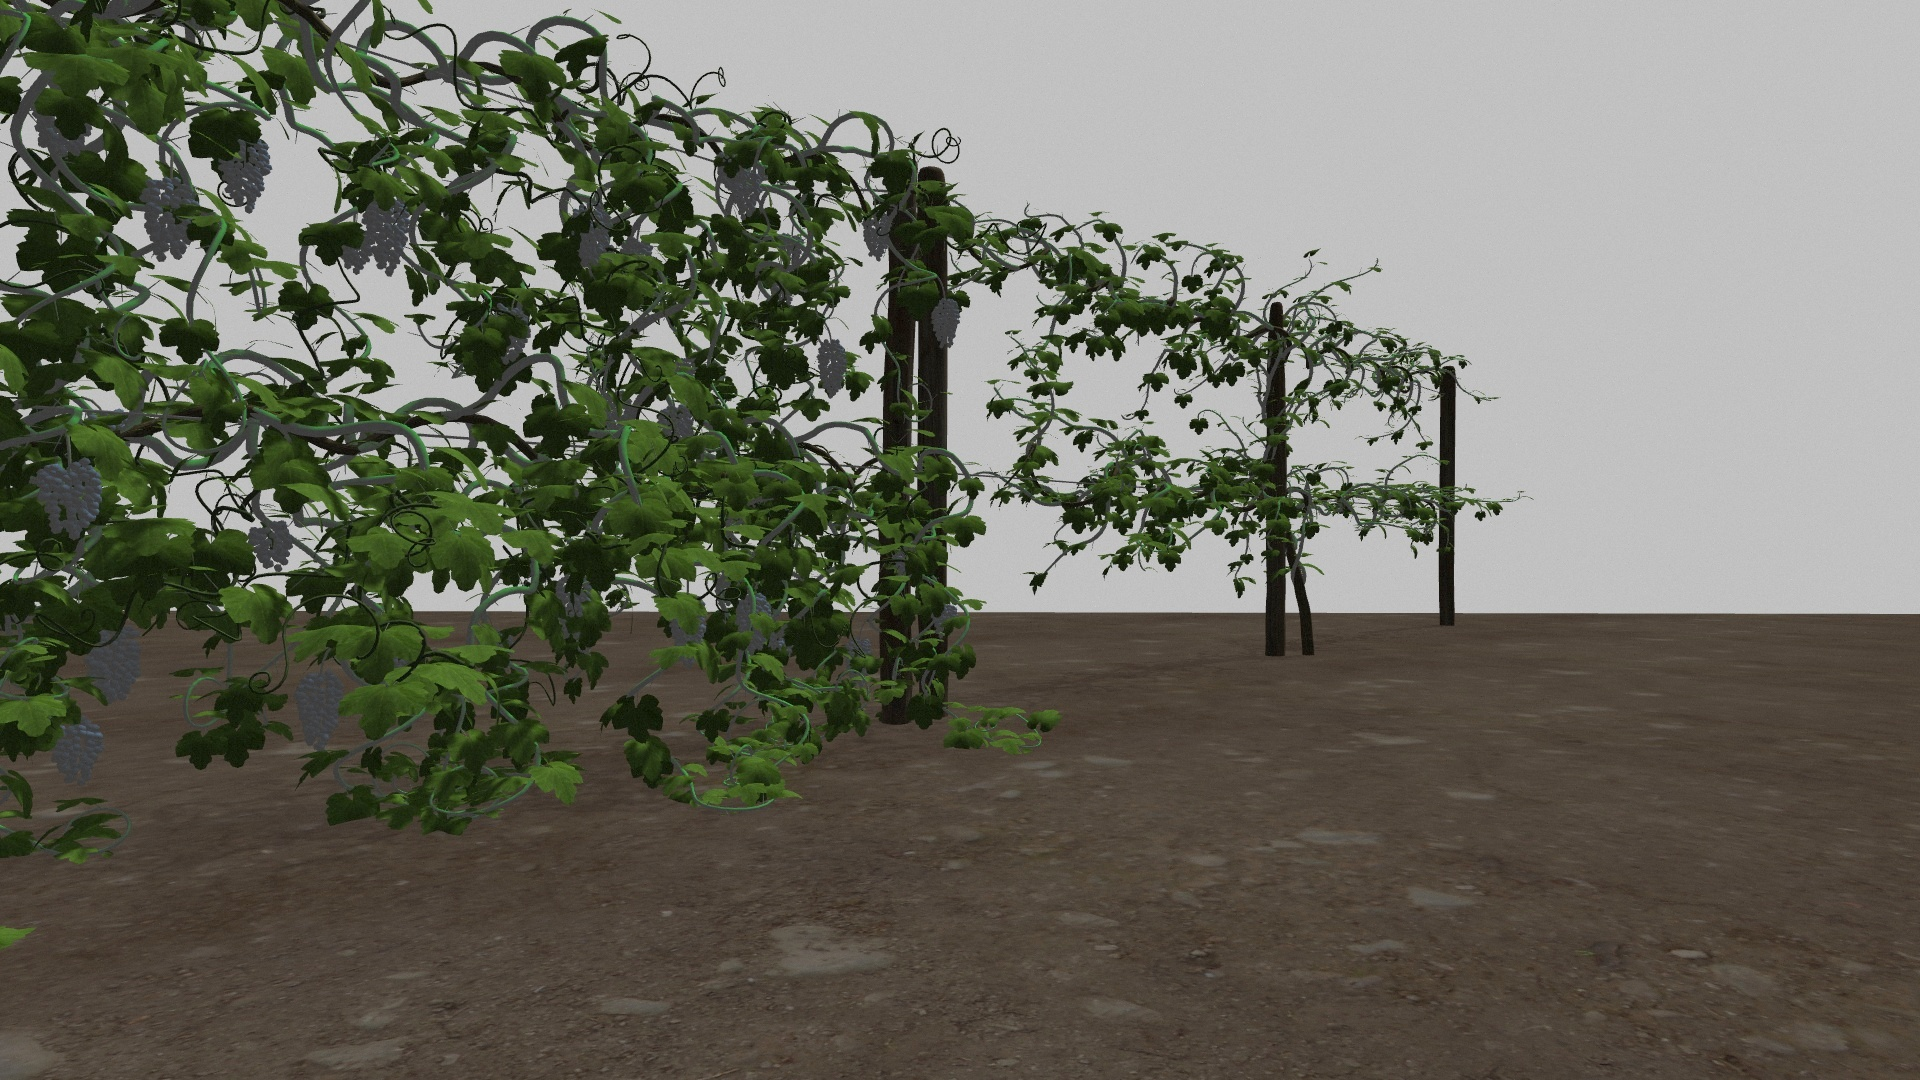grape: (30, 458, 107, 539), (142, 175, 200, 262), (291, 670, 348, 750), (84, 622, 141, 703), (216, 136, 274, 214), (50, 715, 104, 789), (367, 195, 413, 276), (32, 109, 92, 156), (735, 589, 771, 655), (575, 204, 612, 269), (248, 521, 294, 571), (816, 339, 851, 401), (861, 204, 891, 261), (931, 294, 959, 352), (659, 402, 696, 444), (342, 229, 375, 276), (731, 166, 760, 218), (931, 604, 957, 636)
